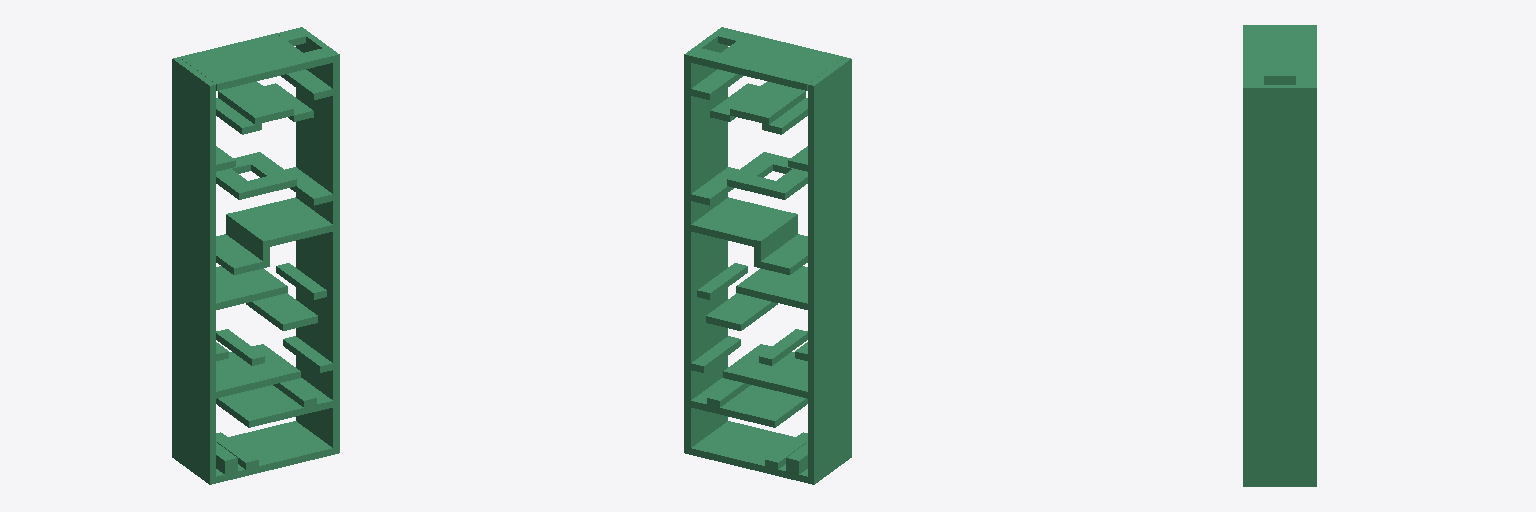
3 views of the same model, side by side, from view 1: azimuth 30°, elevation 25°; view 2: azimuth 150°, elevation 25°; view 3: azimuth 270°, elevation 25° (orthographic).
Parts seen in each view (by area): view 1: 立方体; view 2: 立方体; view 3: 立方体.
Boxes of the visible parts, x1,y1,x2,y2 form: 立方体: [172, 27, 339, 484]; 立方体: [684, 27, 851, 484]; 立方体: [1243, 25, 1316, 486].
Size of the model in its own units: 40 by 118 by 20.
Materials: 1 (1 with a texture image).